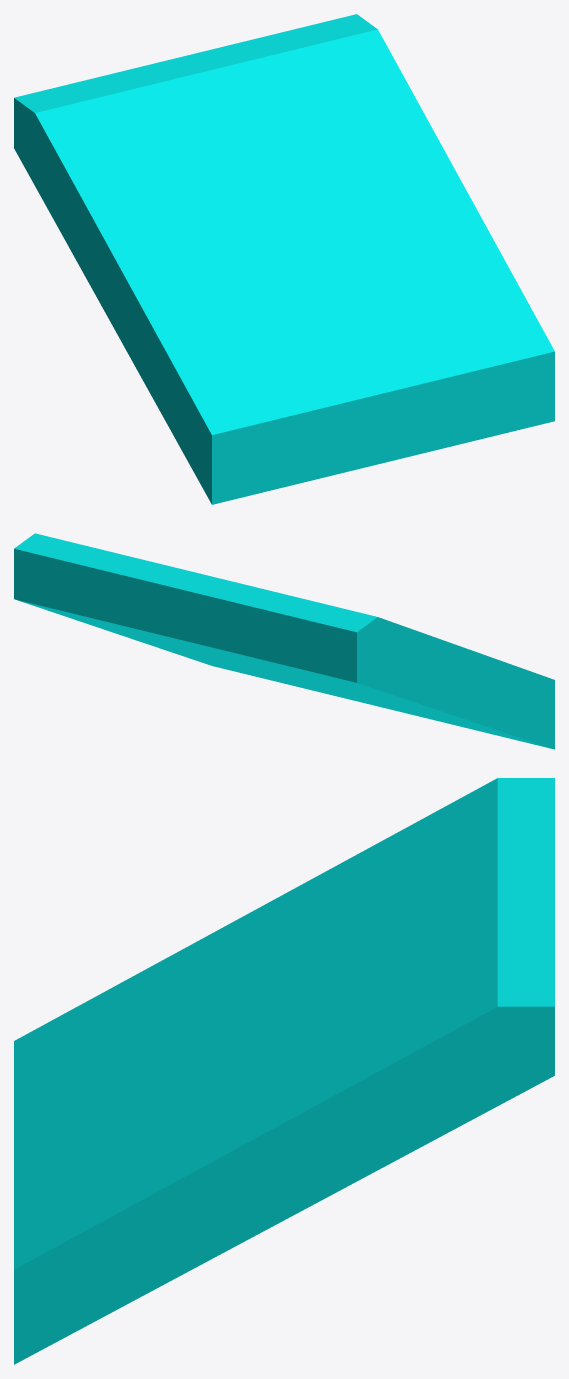
The model's file is SM_Bld_Stairs_02_Collision.fbx.
3 renders of one model, top to bottom at view 1: azimuth 30°, elevation 25°; view 2: azimuth 150°, elevation 25°; view 3: azimuth 270°, elevation 25°, orthographic. The views are drawn at different scales.
Visible parts, largest first — view 1: SM_Bld_Stairs_02_Collision; view 2: SM_Bld_Stairs_02_Collision; view 3: SM_Bld_Stairs_02_Collision.
Boxes of the visible parts, left/top/right/bottom form: SM_Bld_Stairs_02_Collision: left=14, top=14, right=554, bottom=504; SM_Bld_Stairs_02_Collision: left=14, top=533, right=554, bottom=749; SM_Bld_Stairs_02_Collision: left=14, top=778, right=554, bottom=1364.
Bounding box in the file's own units: 250 × 183 × 250.
